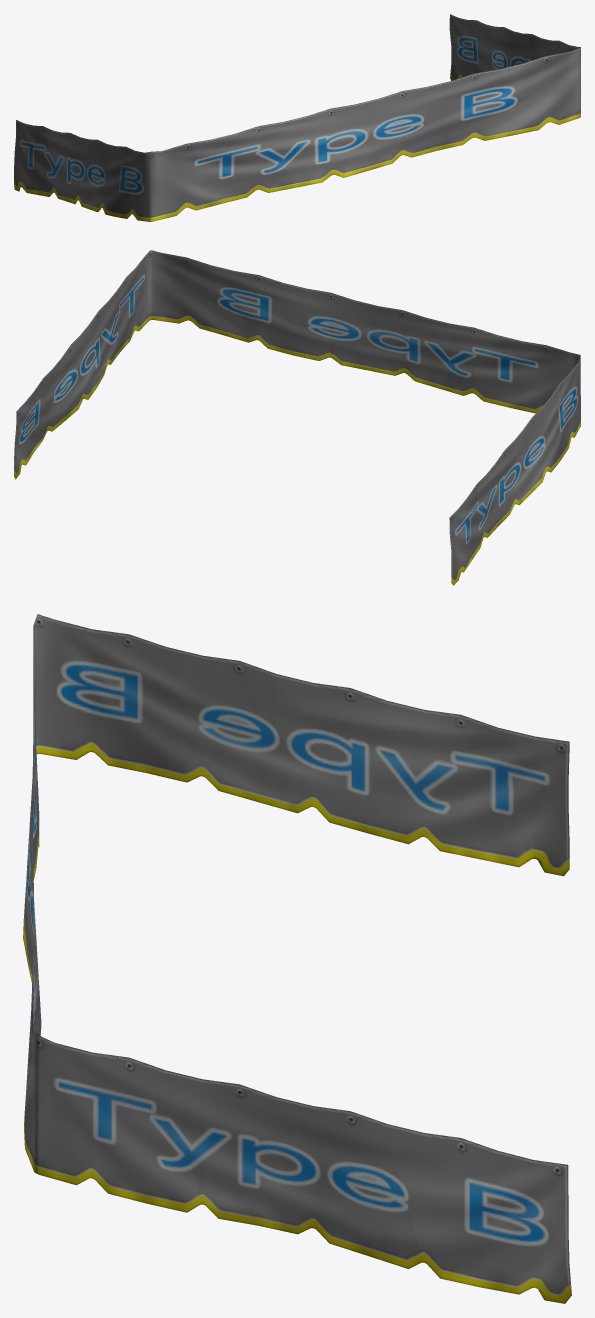
File: jsf_ShopCurtain_b_s04.fbx
3 views of the same model, one above another, from view 1: azimuth 30°, elevation 25°; view 2: azimuth 150°, elevation 25°; view 3: azimuth 270°, elevation 25° (orthographic). The views are drawn at different scales.
Visible parts, largest first — view 1: jsf_ShopCurtain_b_s04; view 2: jsf_ShopCurtain_b_s04; view 3: jsf_ShopCurtain_b_s04.
Boxes of the visible parts, x1=… form: jsf_ShopCurtain_b_s04: x1=14, y1=14, x2=580, y2=221; jsf_ShopCurtain_b_s04: x1=14, y1=250, x2=580, y2=585; jsf_ShopCurtain_b_s04: x1=23, y1=614, x2=571, y2=1303.
Bounding box in the file's own units: 404 × 116 × 216.
